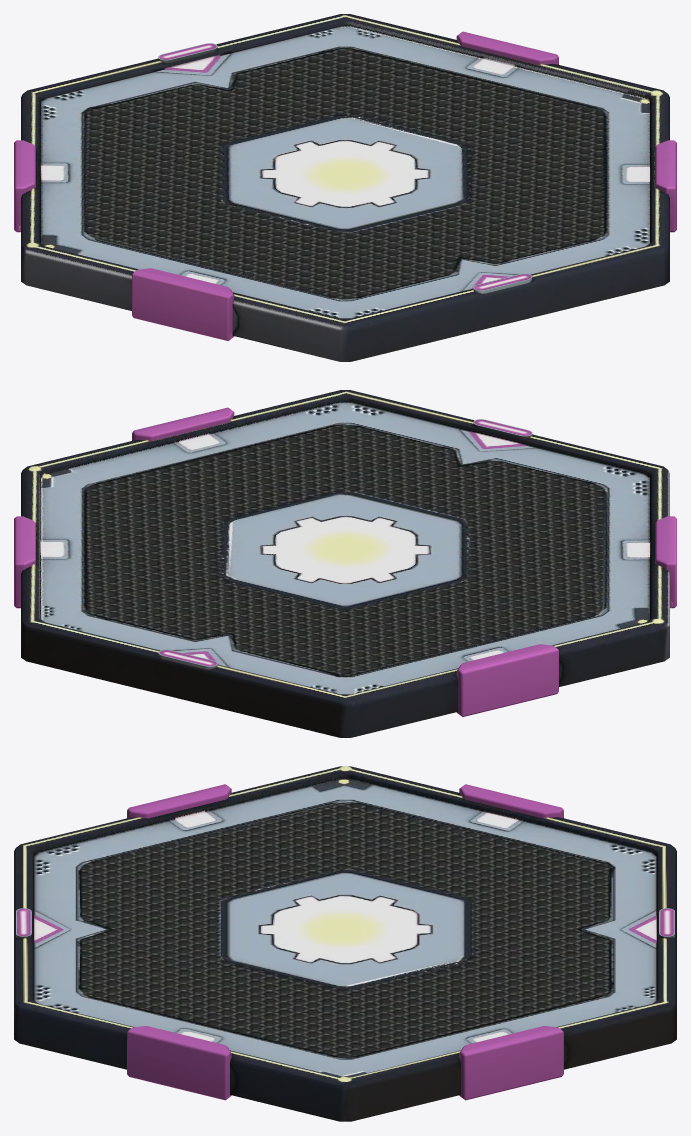
The model's file is pm-hexagon-platform-medium-01.glb.
3 renders of one model, top to bottom at view 1: azimuth 30°, elevation 25°; view 2: azimuth 150°, elevation 25°; view 3: azimuth 270°, elevation 25°, orthographic. The views are drawn at different scales.
Visible parts, largest first — view 1: HexagonPlatformMedium01_Art; view 2: HexagonPlatformMedium01_Art; view 3: HexagonPlatformMedium01_Art.
Boxes of the visible parts, x1,y1,x2,y2 form: HexagonPlatformMedium01_Art: [14, 14, 676, 361]; HexagonPlatformMedium01_Art: [14, 390, 676, 737]; HexagonPlatformMedium01_Art: [14, 766, 676, 1121].
Size of the model in its own units: 11.9 by 0.8122 by 10.39.
Materials: 1 (1 with a texture image).
